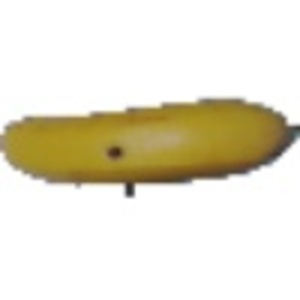banana: (3, 95, 297, 186)
